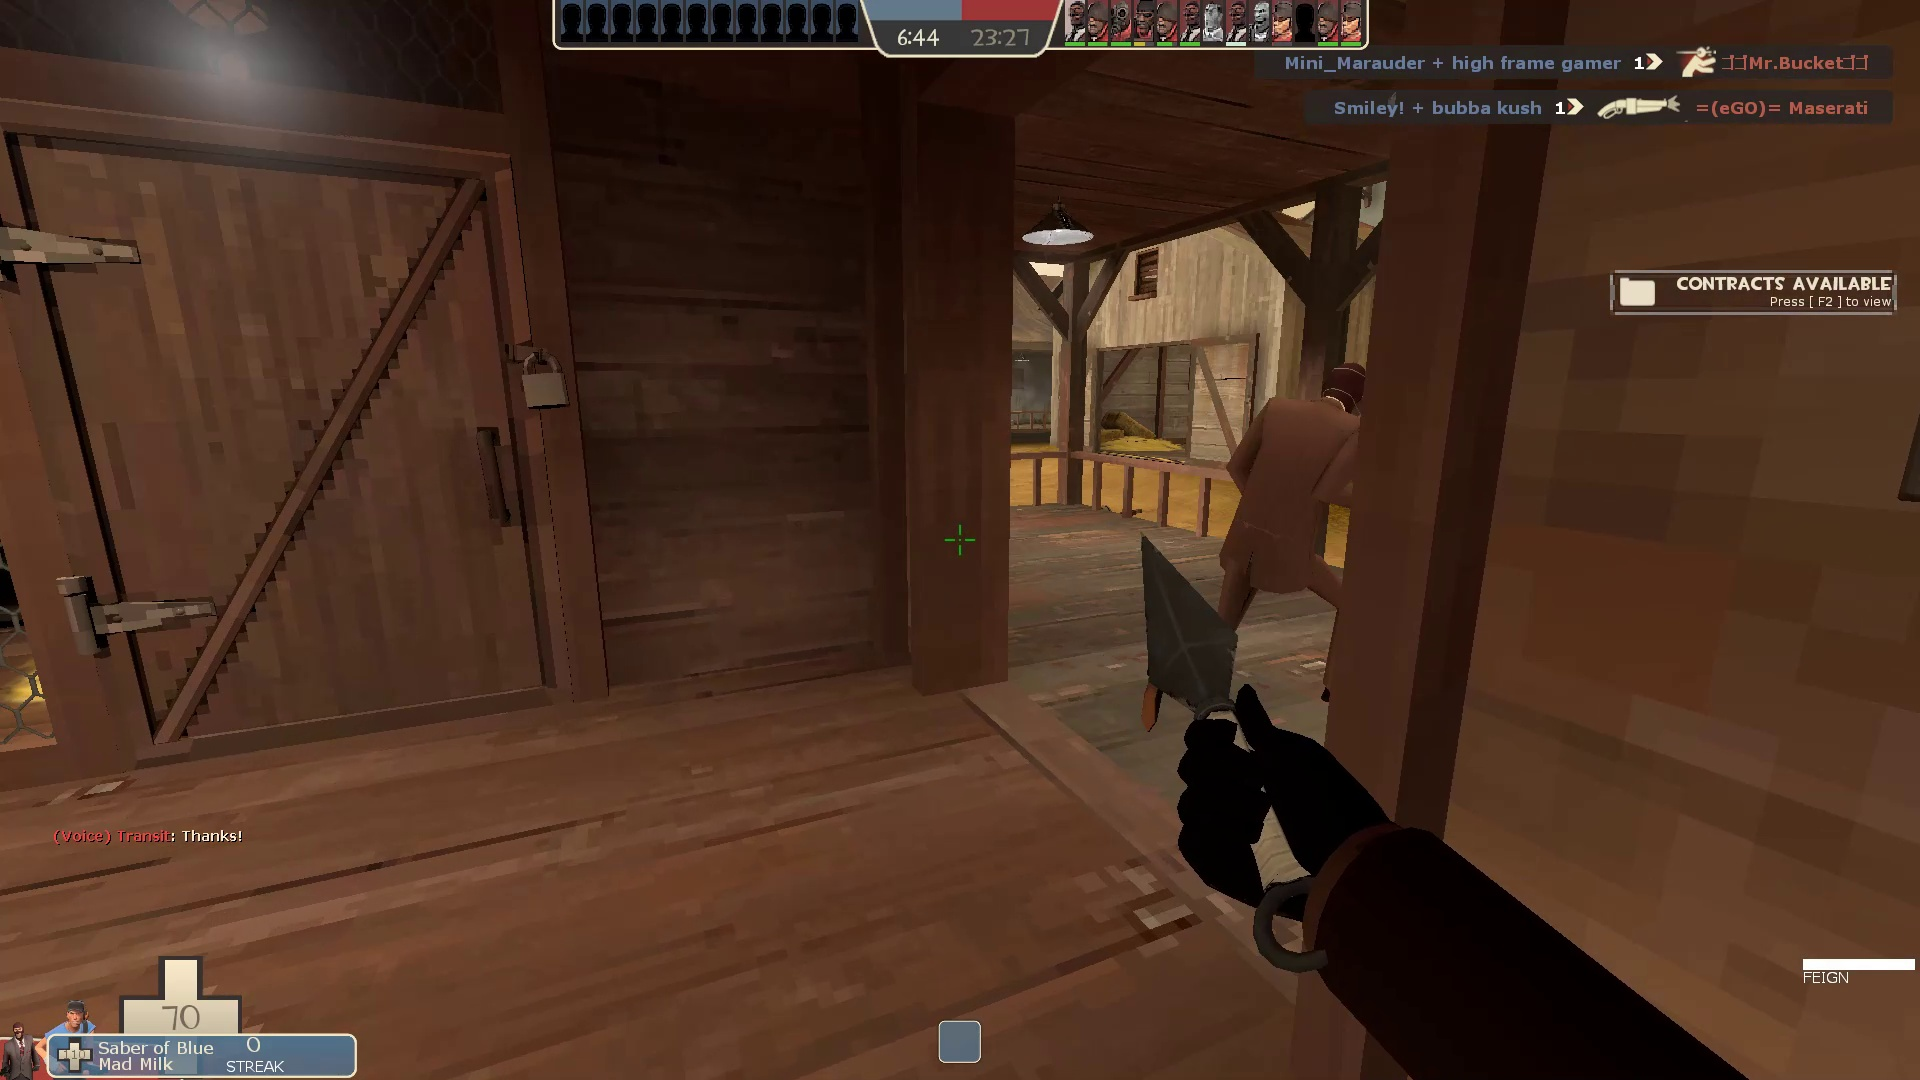red_spy: (1125, 347, 1435, 771)
